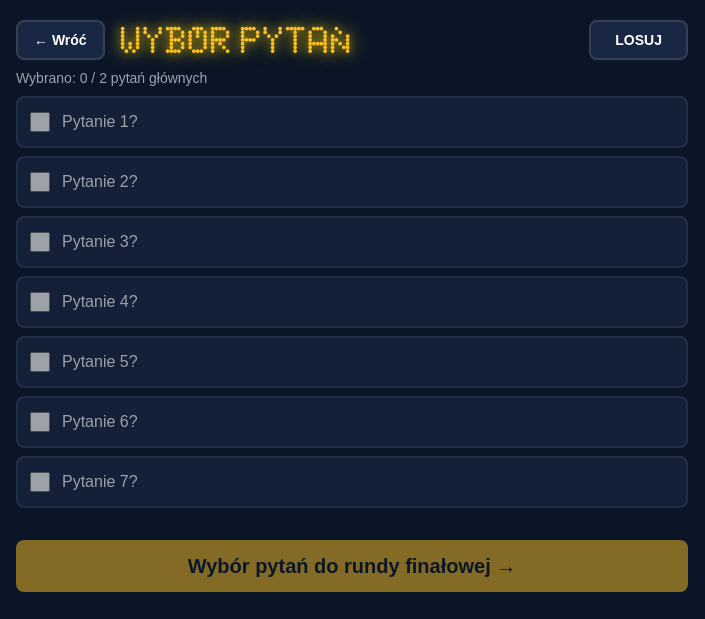
Test case: QuestionSelectionScreen › should deselect question and remove its order number when unchecked
The width and height of the screenshot is (705, 619).
Click the checkbox next to "Pytanie 1?".
click(40, 122)  # box x1=30 y1=112 x2=50 y2=132
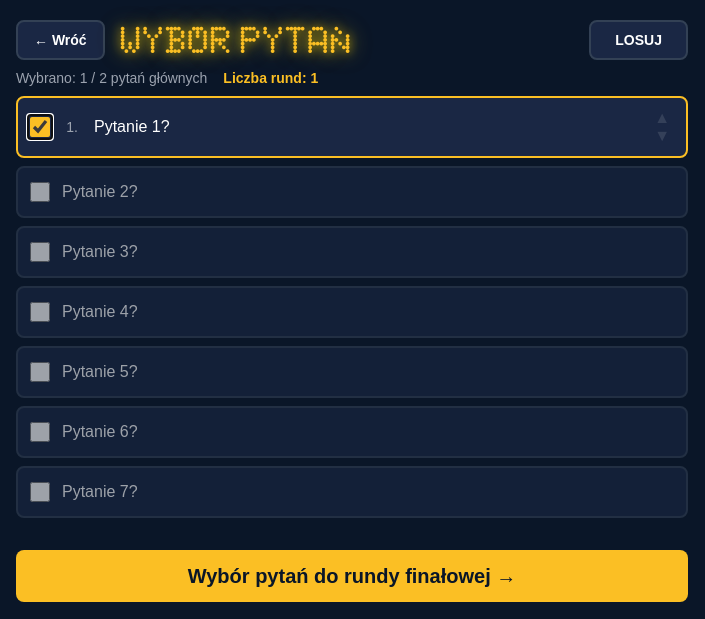
Click the checkbox in the row of "Pytanie 1?".
click(40, 127)  # box x1=30 y1=117 x2=50 y2=137
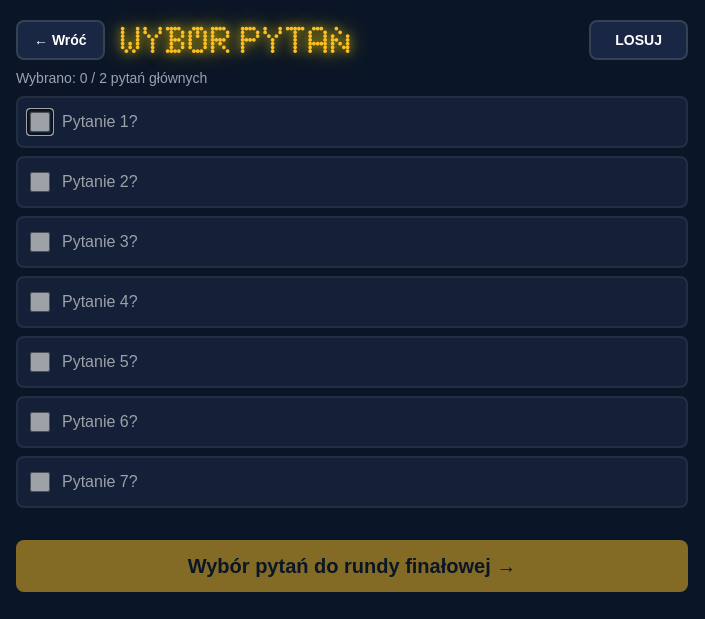
Expected: the text "1." is not shown
Expected: the text "Wybrano: 0 / 2 pytań głównych" is shown, x1=16 y1=68 x2=207 y2=88
Expected: the button "Wybór pytań do rundy finałowej →" is disabled, x1=16 y1=540 x2=688 y2=592
